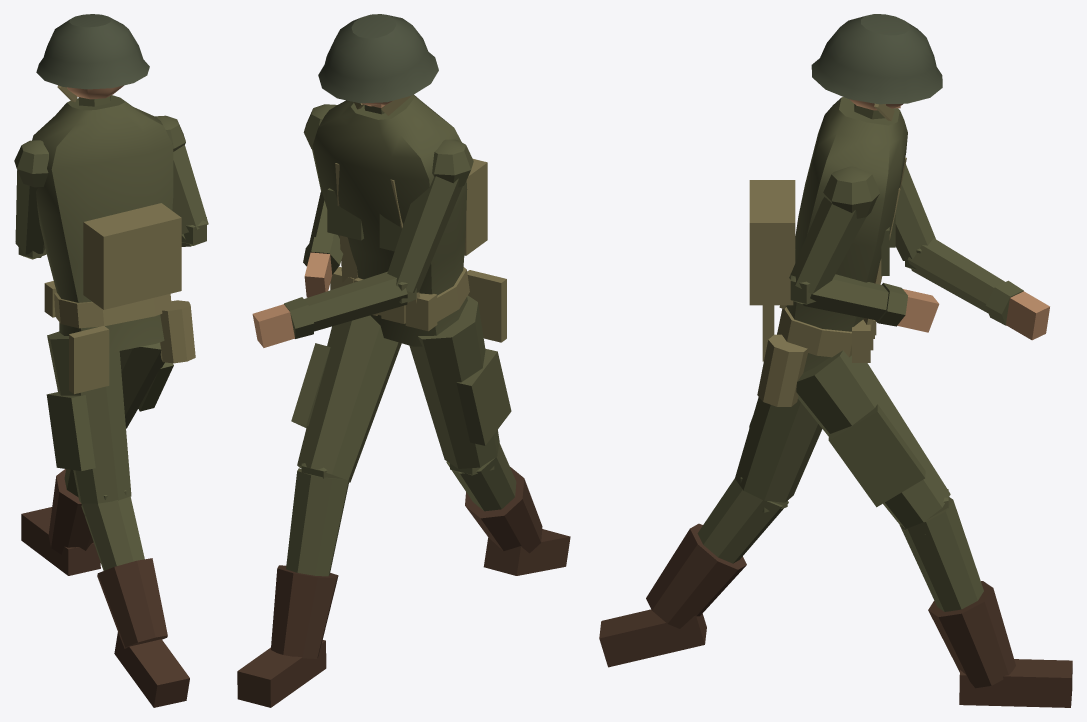
Rendered from soldier_us_advance_rifle.glb.
The picture shows the model from 3 angles, left to right: view 1: azimuth 30°, elevation 25°; view 2: azimuth 150°, elevation 25°; view 3: azimuth 270°, elevation 25°; orthographic projection. The views are drawn at different scales.
Parts seen in each view (by area): view 1: soldier_us_advance_rifle; view 2: soldier_us_advance_rifle; view 3: soldier_us_advance_rifle.
Part boxes in pixels (x1,y1,x2,y2): soldier_us_advance_rifle: (14, 14, 208, 707); soldier_us_advance_rifle: (237, 14, 570, 707); soldier_us_advance_rifle: (599, 14, 1072, 707).
Size of the model in its own units: 0.5061 by 1.72 by 1.12.
